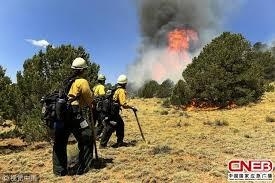fire: (156, 23, 199, 75), (180, 95, 243, 112), (163, 23, 199, 51)
